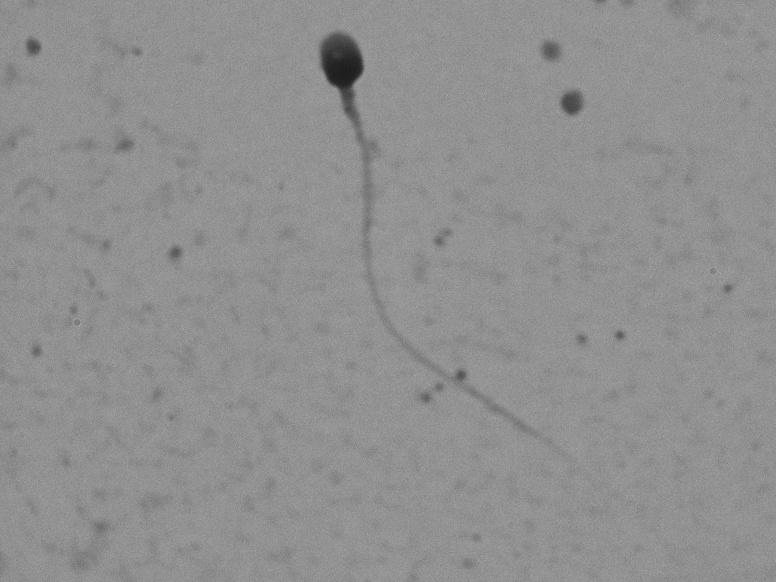Abnormal: (231, 24, 534, 481)
